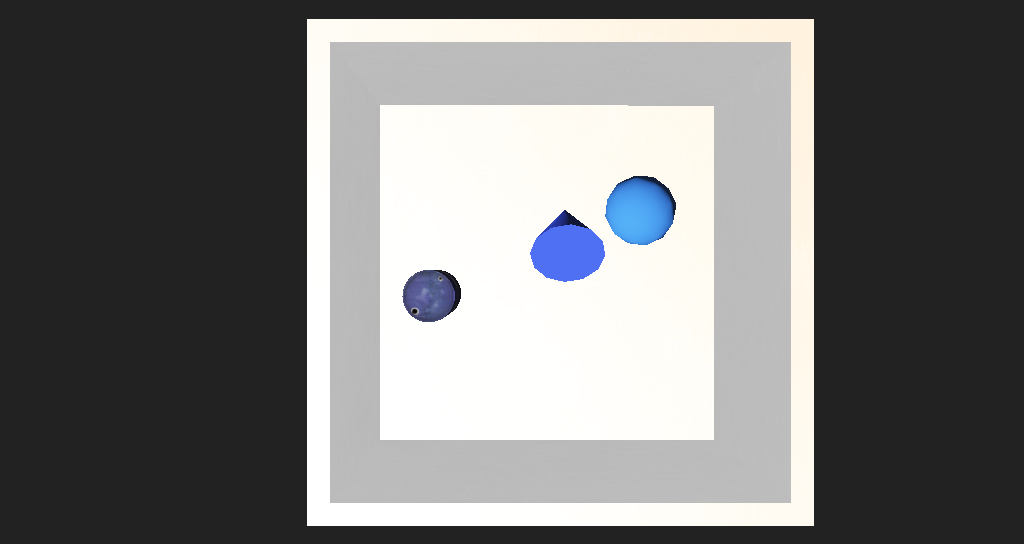cone: (371, 270, 424, 303)
cylinder: (485, 205, 552, 272)
sphere: (552, 205, 620, 253)
